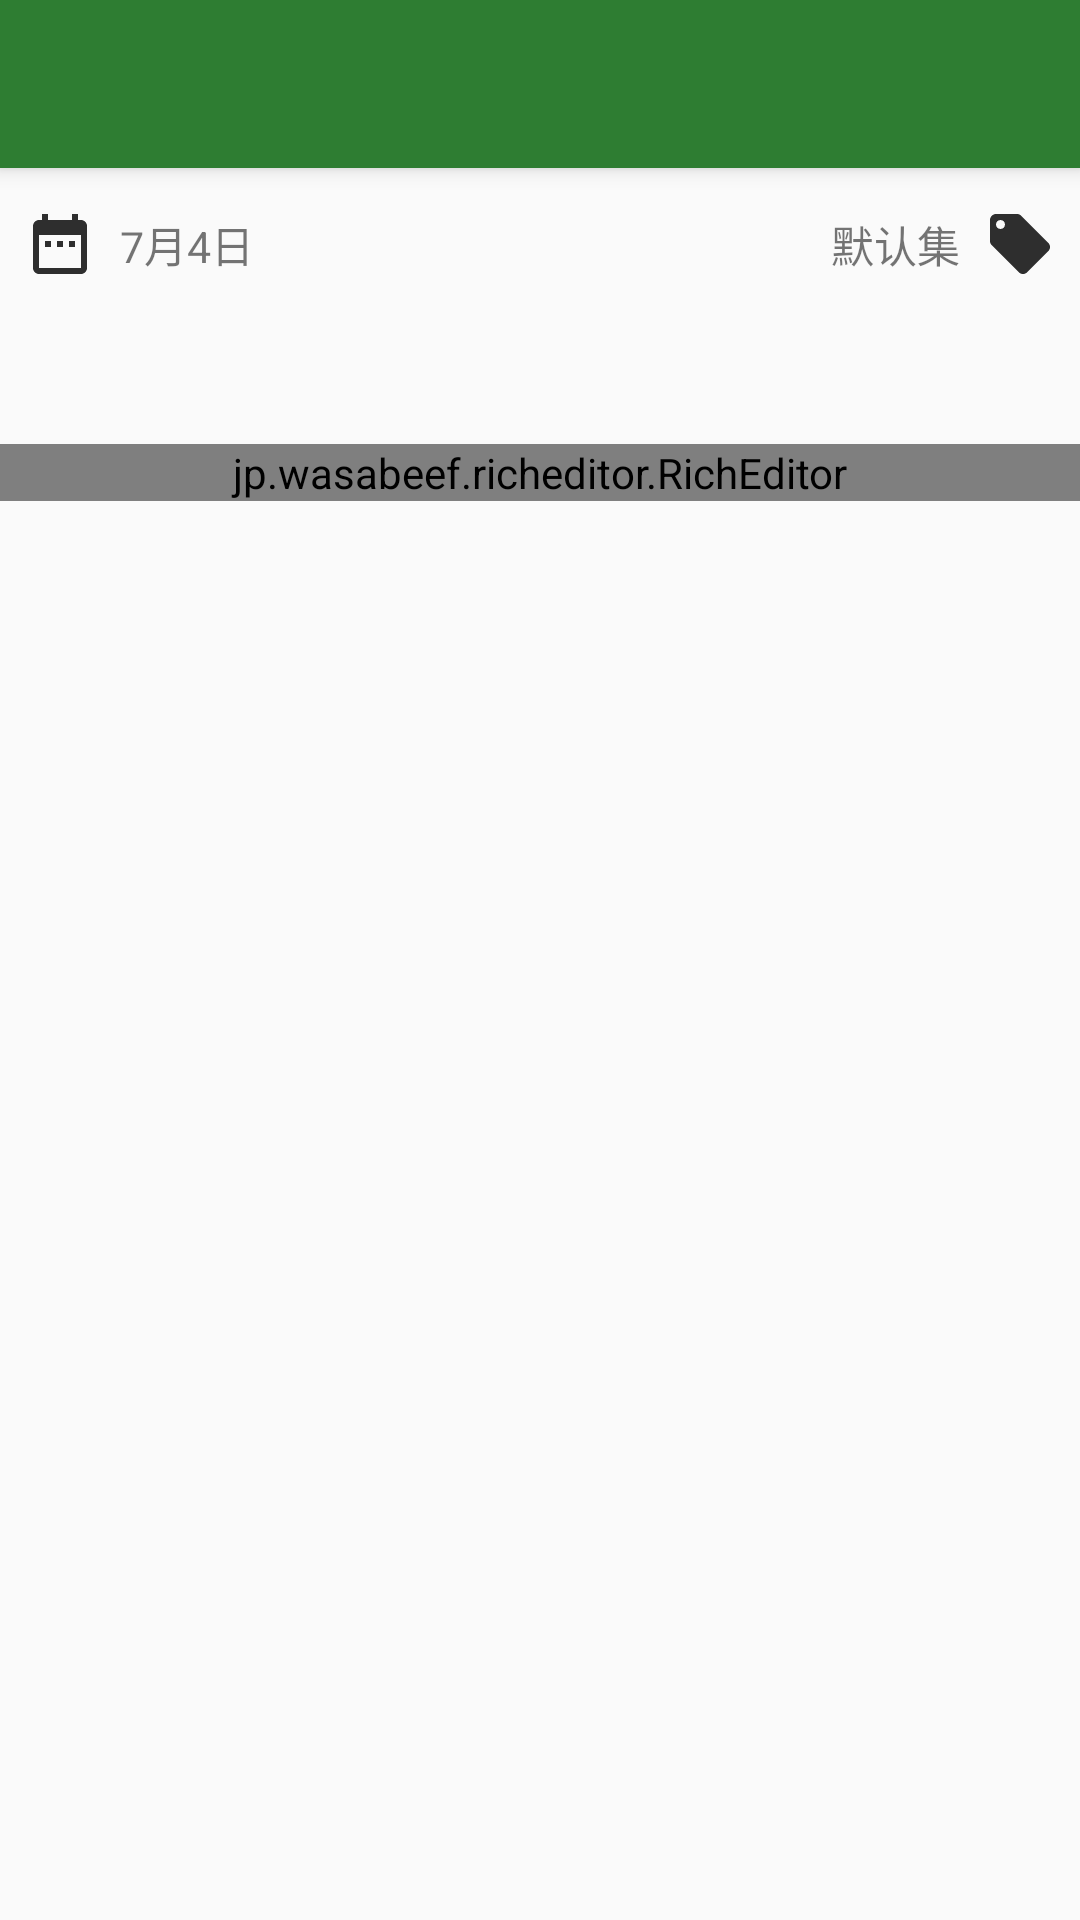

Icon bounding boxes for this 1080x1920 phone screenshot, format (x1, y1, x2, y2):
date range: (33, 214, 87, 274)
label: (990, 214, 1050, 274)
